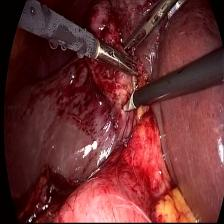Grasper: (120, 4, 169, 54), (95, 38, 140, 75)
Hook: (118, 88, 140, 118)
